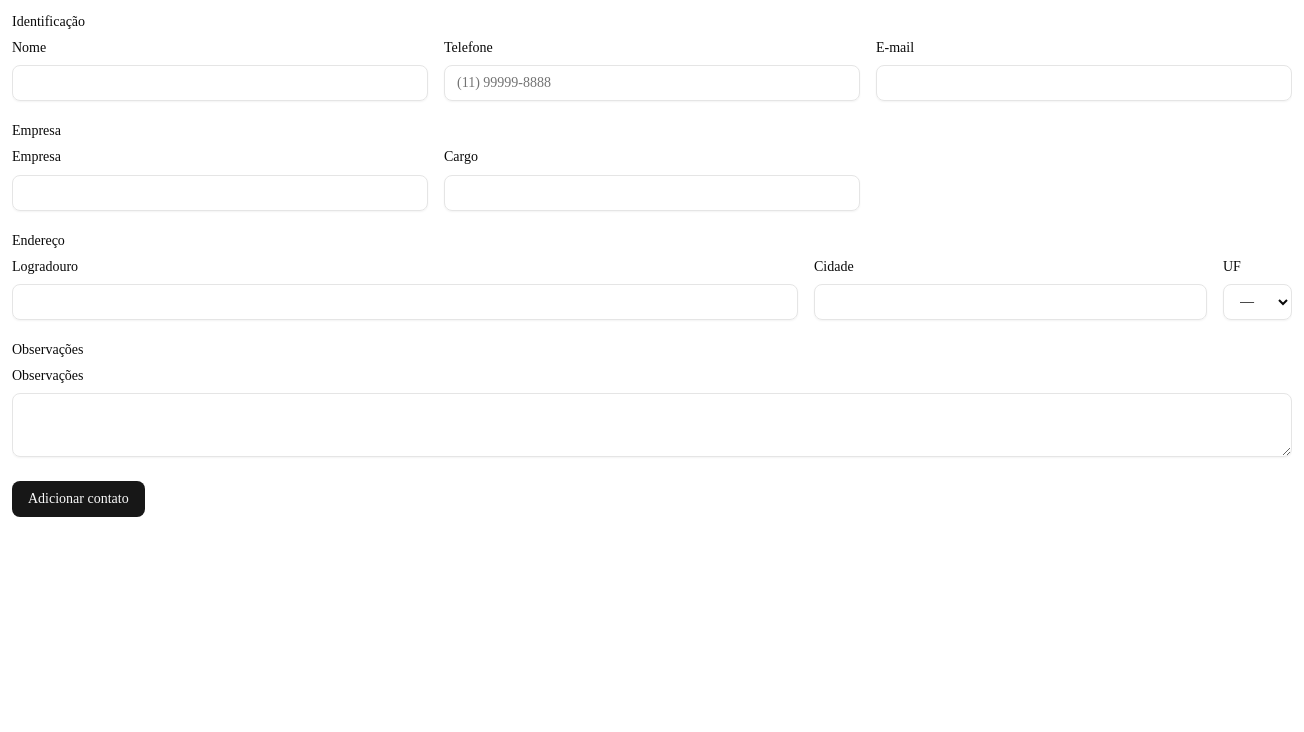
Scenario: envio › erro do servidor aparece na tela e o que foi digitado permanece
Type "Nova Pessoa" into the field labelled "Nome" at point(220, 83), box [12, 65, 428, 101]
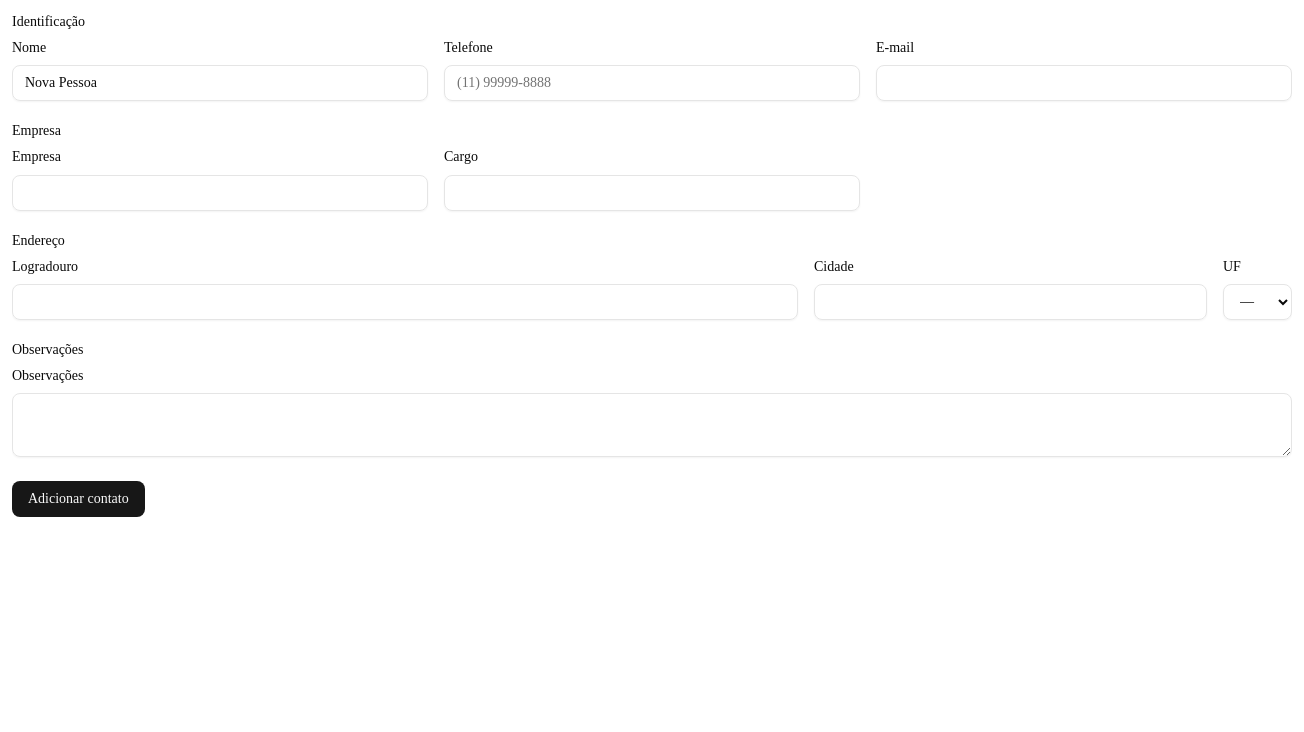
Type "11999998888" into the field labelled "Telefone" at point(652, 83), box [444, 65, 860, 101]
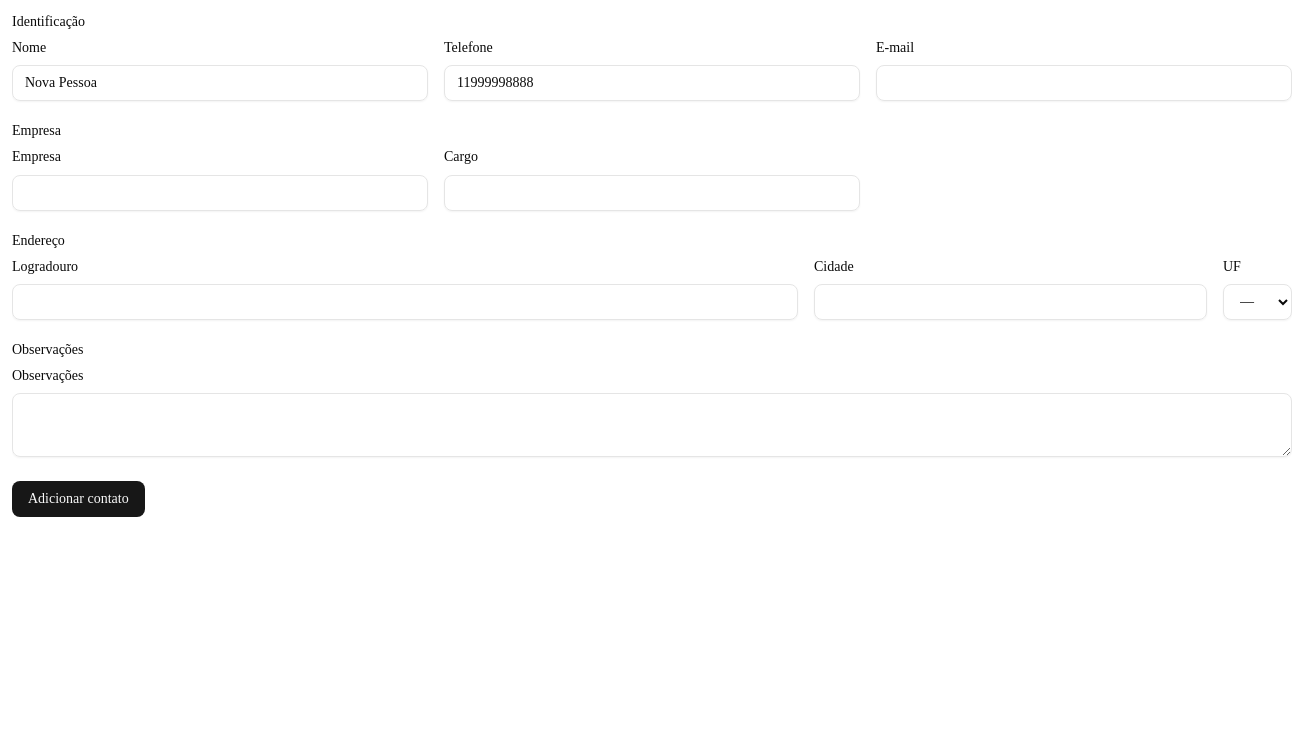
Type "Acme" into the field labelled "Empresa" at point(220, 192), box [12, 174, 428, 210]
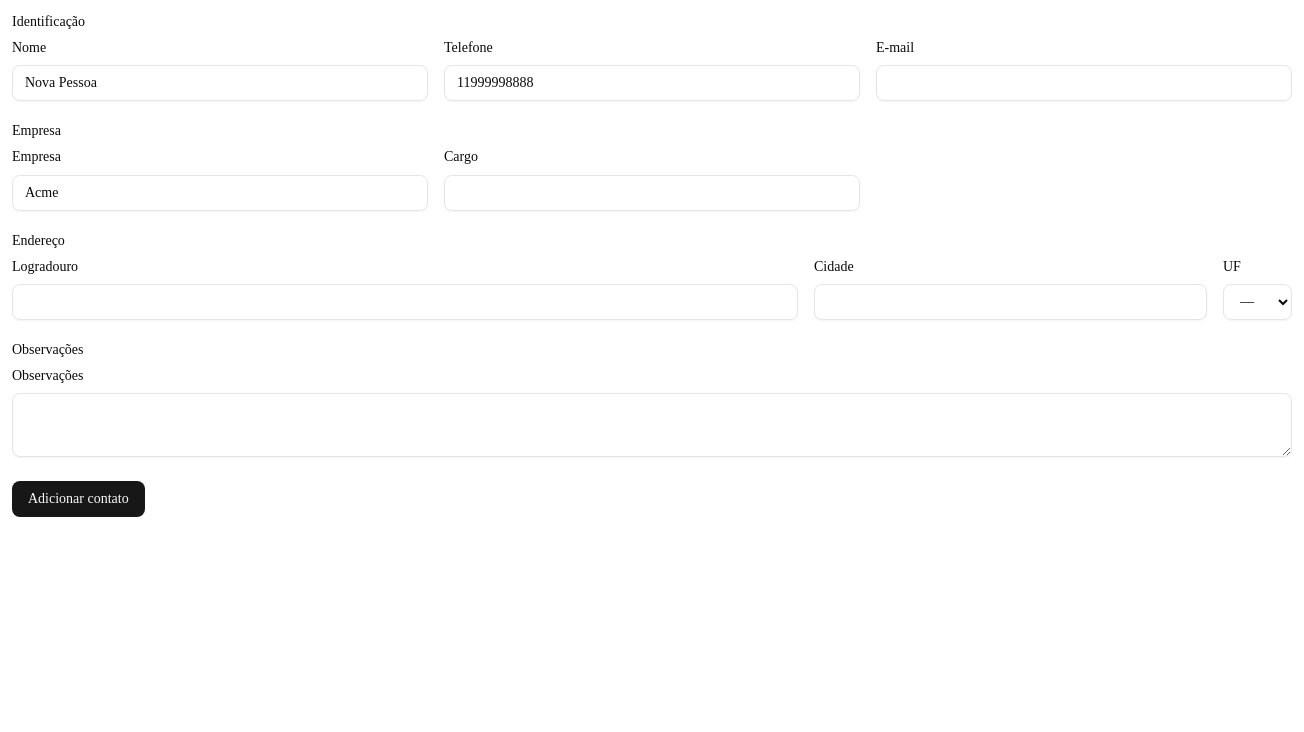
Click the button "Adicionar contato" at point(78, 499), box [12, 481, 145, 517]
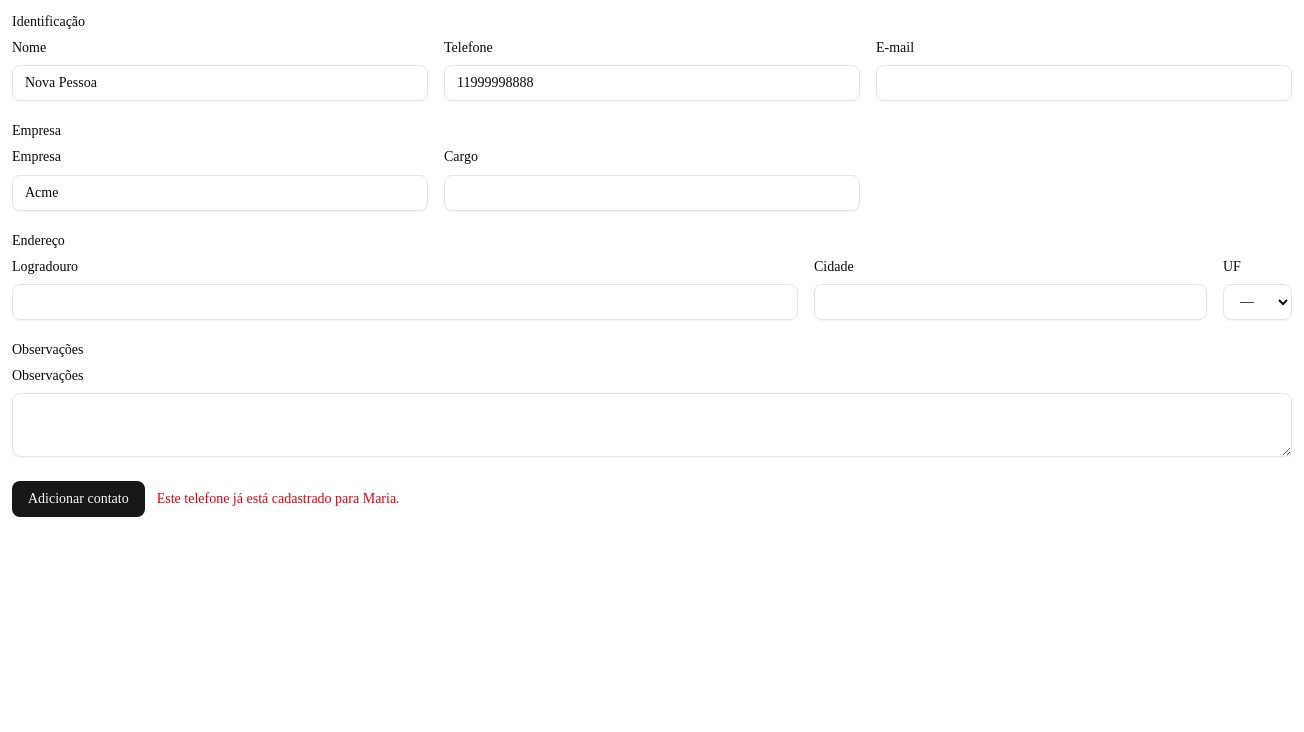
Expected: the message shows "já está cadastrado para Maria", [157, 491, 400, 506]
